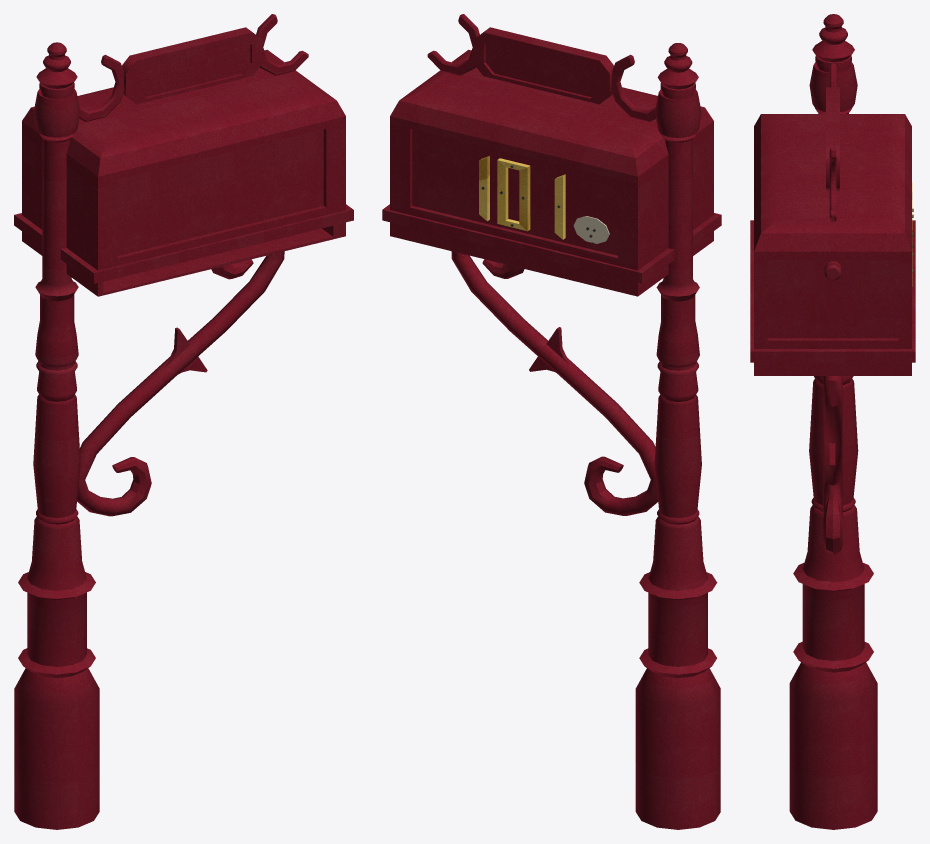
The model's file is Mailbox_l.fbx.
The picture shows the model from 3 angles, left to right: view 1: azimuth 30°, elevation 25°; view 2: azimuth 150°, elevation 25°; view 3: azimuth 270°, elevation 25°; orthographic projection. The views are drawn at different scales.
Parts seen in each view (by area): view 1: Post_L; view 2: Post_L, Hooks, Lable; view 3: Post_L.
Boxes of the visible parts, left/top/right/bottom form: Post_L: left=14, top=14, right=353, bottom=829; Post_L: left=382, top=14, right=721, bottom=829; Hooks: left=479, top=156, right=565, bottom=239; Lable: left=573, top=216, right=609, bottom=243; Post_L: left=750, top=14, right=915, bottom=829.
Bounding box in the file's own units: 6.72 × 16.8 × 3.16.
